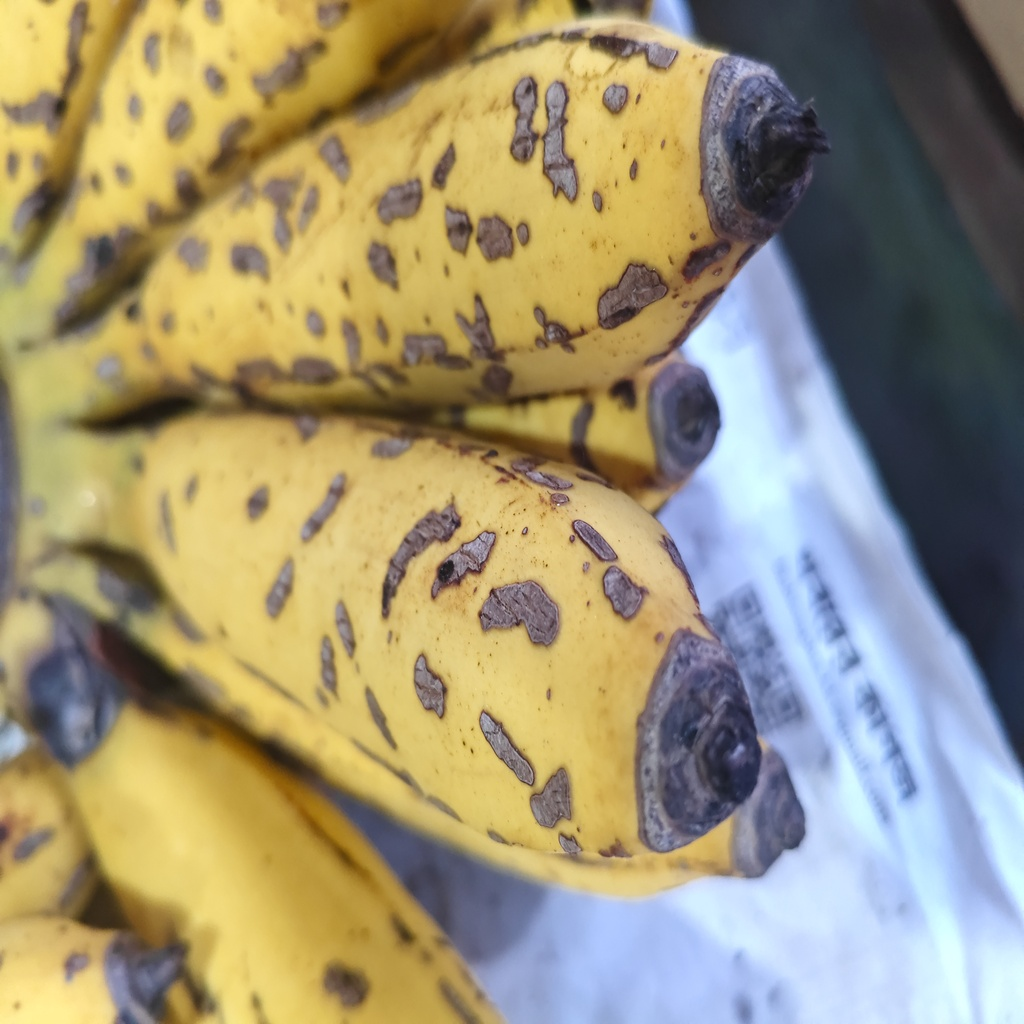unhealthy: (122, 408, 739, 864), (122, 20, 779, 392)
